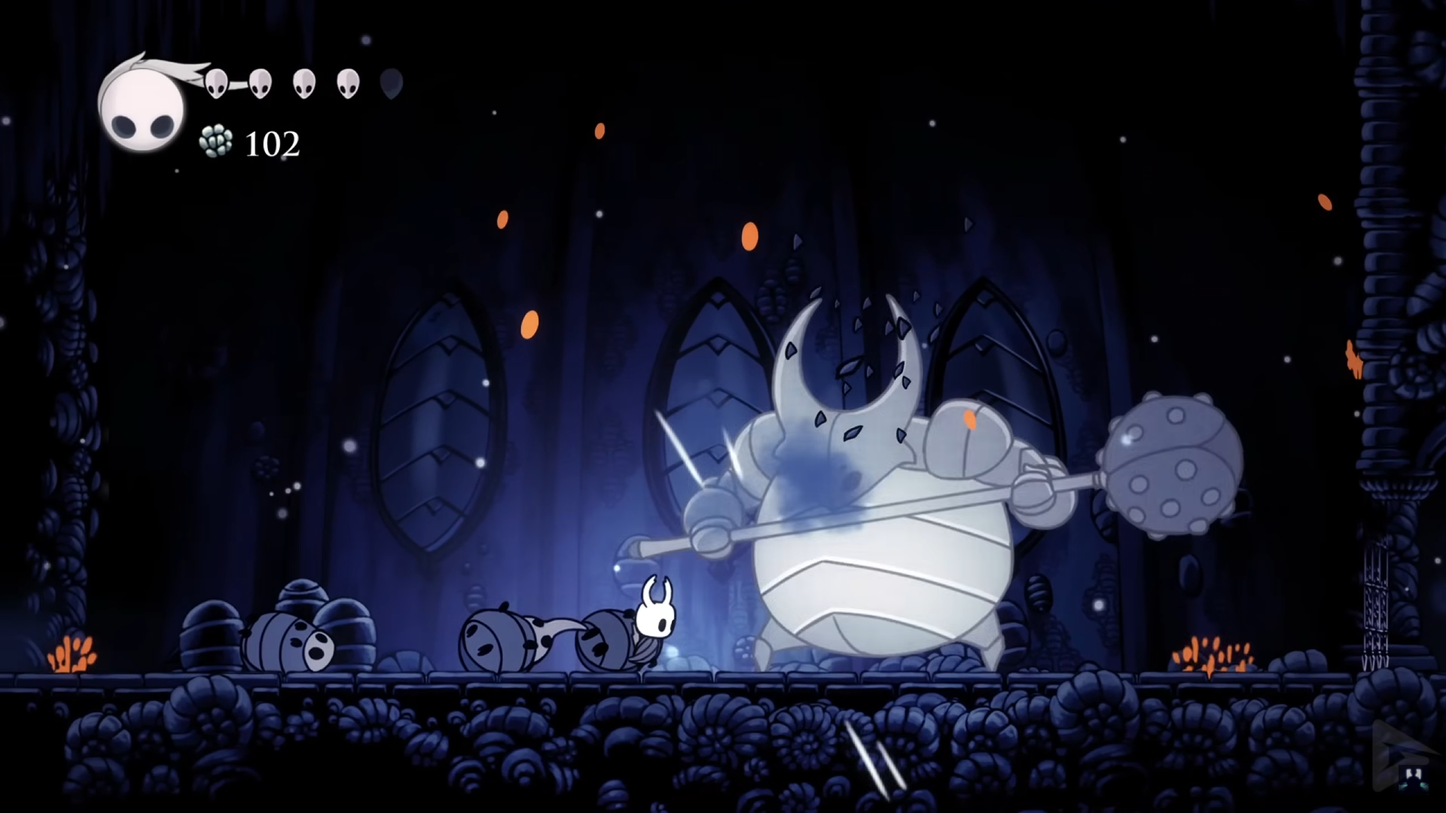HK: (618, 570, 681, 674)
